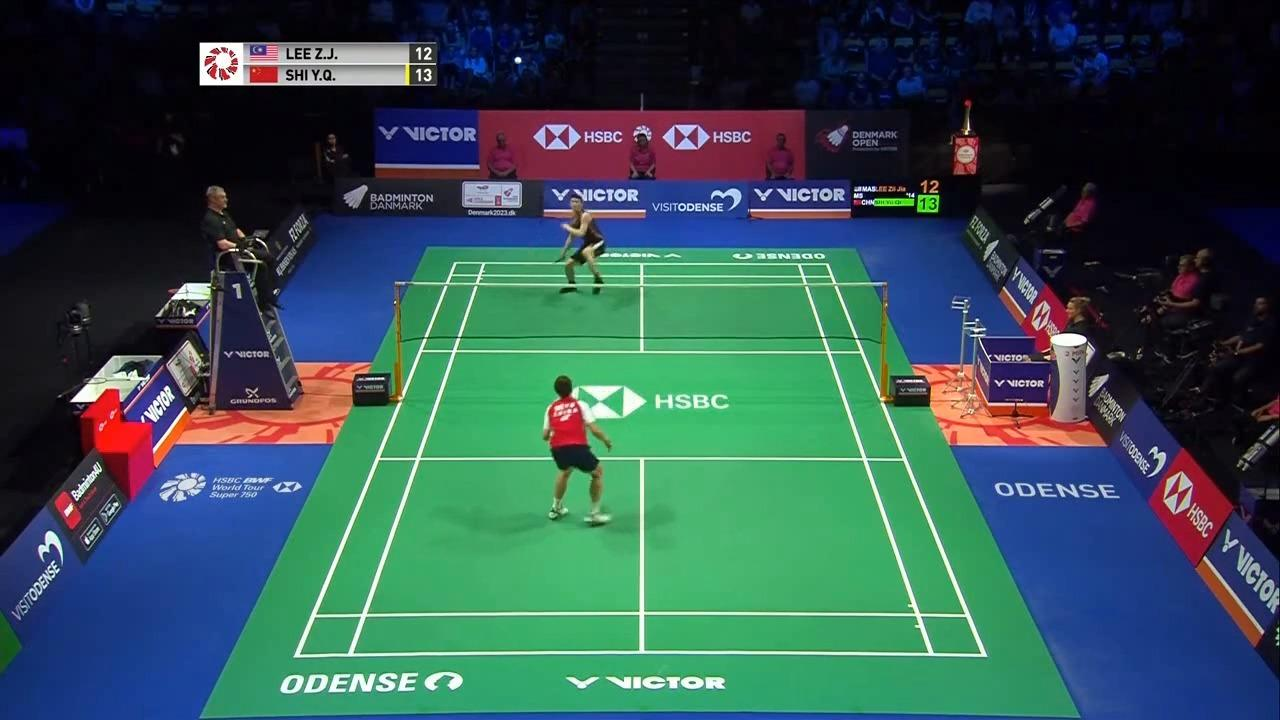shuttle: (515, 55, 523, 64)
